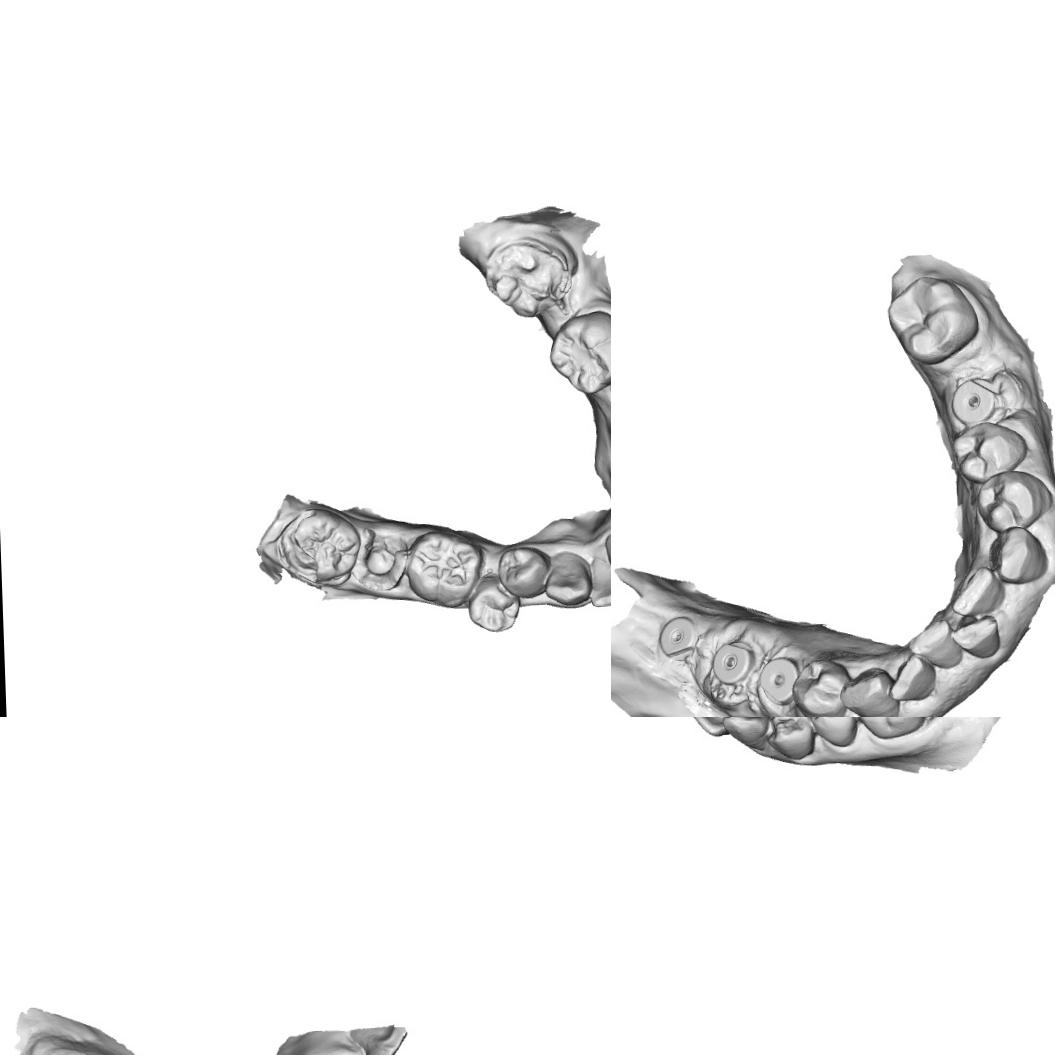canine: (988, 524, 1049, 586), (837, 665, 897, 717), (542, 549, 594, 607), (720, 717, 776, 752)
implant: (948, 375, 1000, 427), (710, 640, 755, 685), (657, 613, 701, 657), (758, 653, 798, 696)
incisor: (947, 564, 1008, 618), (903, 616, 963, 670), (948, 609, 1003, 661), (887, 654, 938, 704), (345, 1022, 411, 1055), (689, 717, 750, 738), (587, 555, 611, 608)
molar: (884, 272, 982, 369), (481, 234, 574, 320), (276, 506, 363, 590), (404, 528, 484, 610), (547, 308, 611, 397), (851, 717, 932, 741)
premolar: (949, 420, 1029, 485), (975, 469, 1054, 533), (791, 659, 848, 717), (466, 577, 522, 634), (495, 546, 551, 600), (765, 717, 817, 762), (808, 717, 857, 748)
